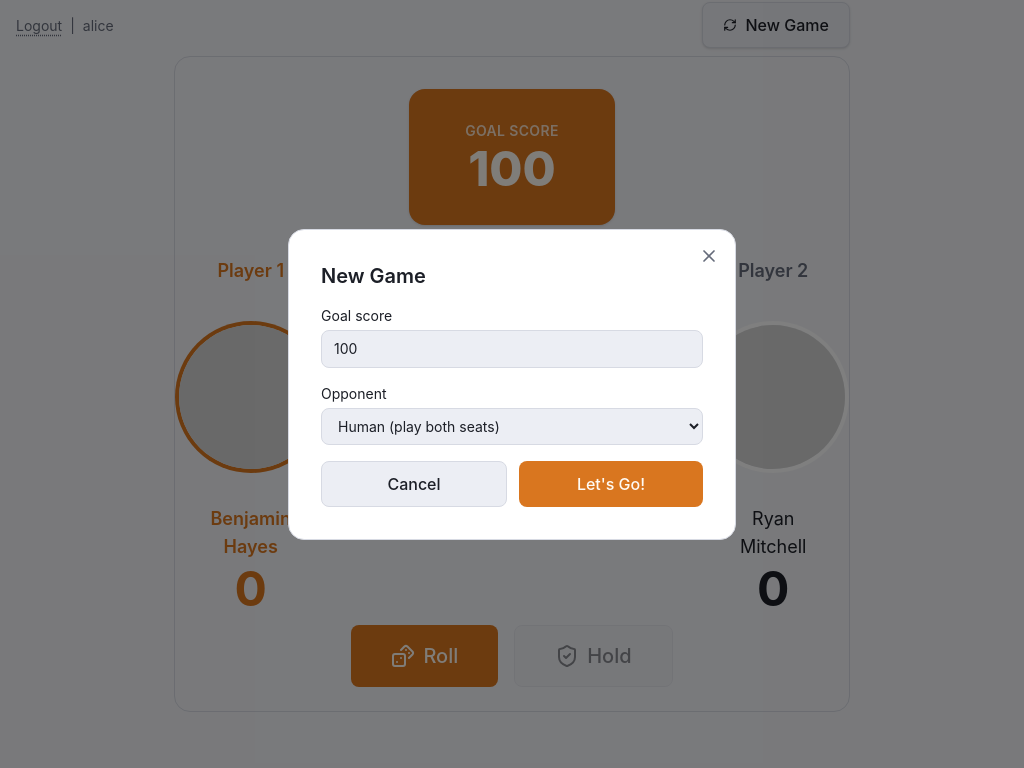
Scenario: GamePage › should show 0/0 behind the modal on load instead of the previous game’s scores
The width and height of the screenshot is (1024, 768).
Expected: the heading "New Game" is shown, [321,264,426,288]
Expected: the text "33" is not shown
Click the button "Cancel" at coordinates (414, 484), box [321,460,507,506]
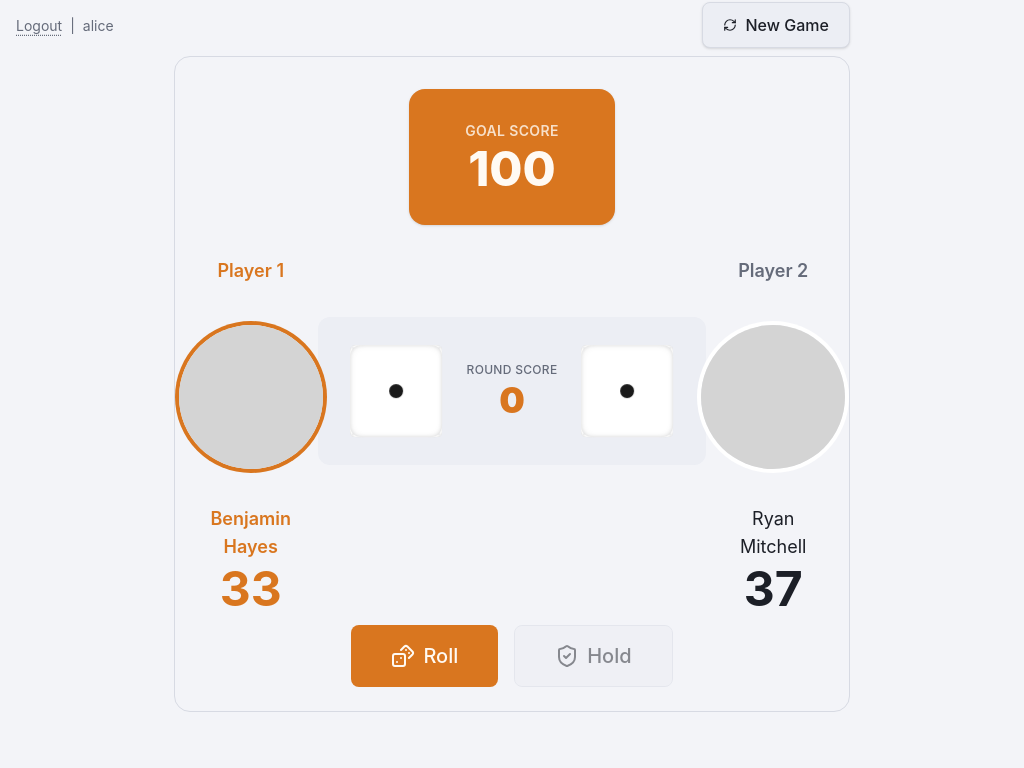
Result: the text "33" is shown at [220,565,282,613]
Result: the text "37" is shown at [744,565,803,613]
